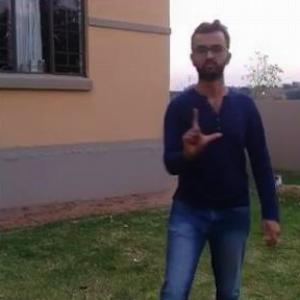land_hand: (176, 104, 227, 156)
